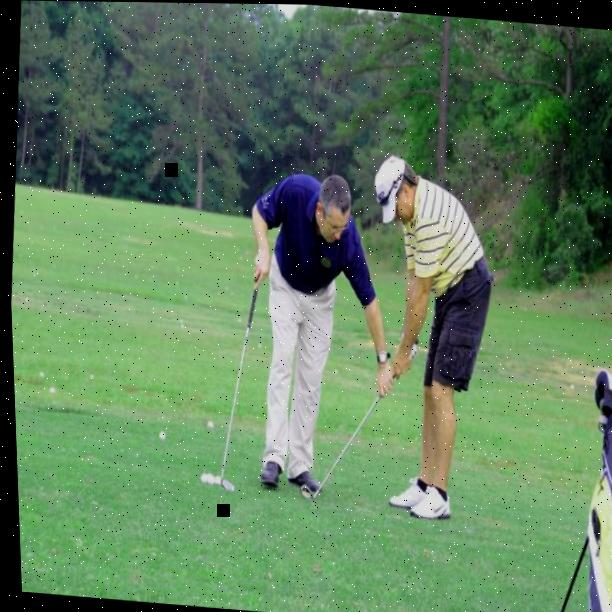ClubHead: (208, 459, 240, 494), (292, 480, 322, 505)
GolfBall: (198, 415, 214, 429), (153, 427, 166, 441), (202, 471, 214, 486)
